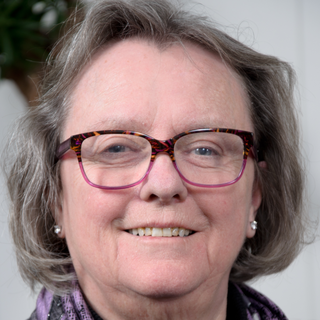eye: (93, 139, 142, 160), (180, 141, 224, 163)
